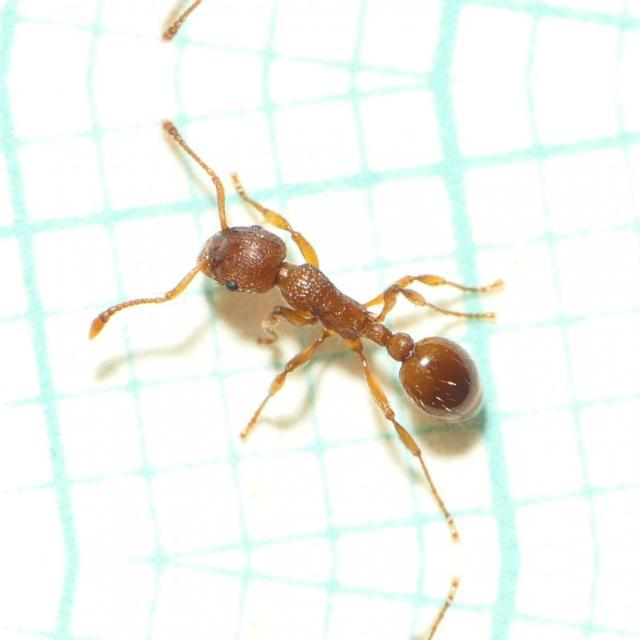Myrmica: (120, 149, 536, 457)
